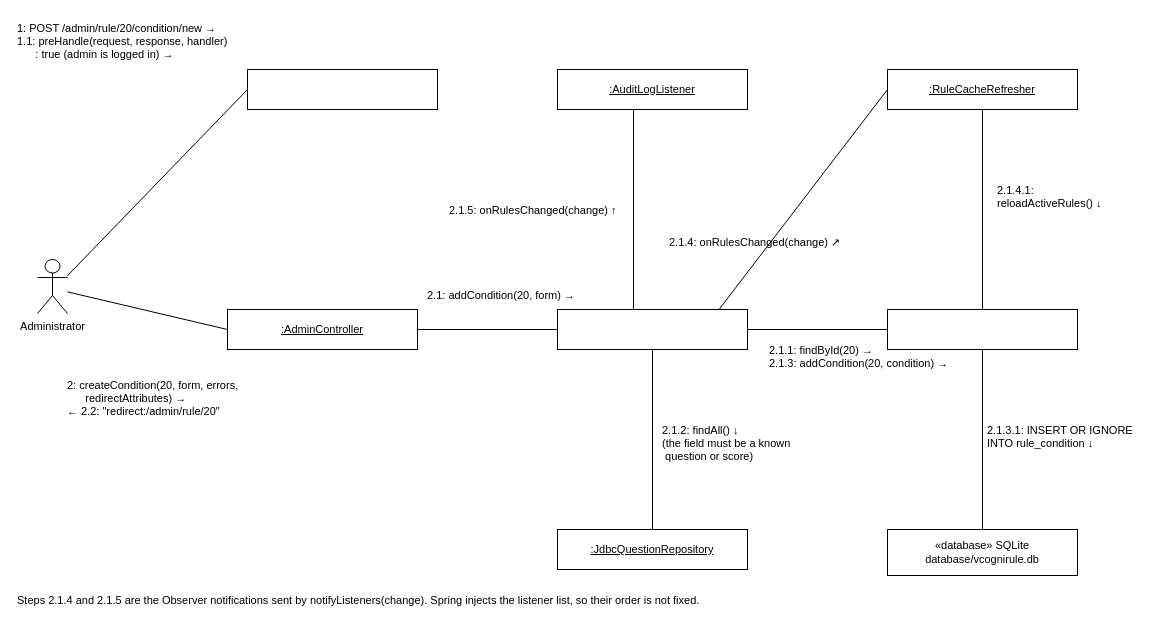
Some shapes in this 1154 by 624 pixel diagram are drawn without their labels. The shapes that lost their labels are listed below. From the top down, each one's centre as x and y in pixels, then its label:
At point 342,89: ":AdminAuthInterceptor".
At point 652,329: ":AdminService".
At point 982,329: ":JdbcRuleRepository".
